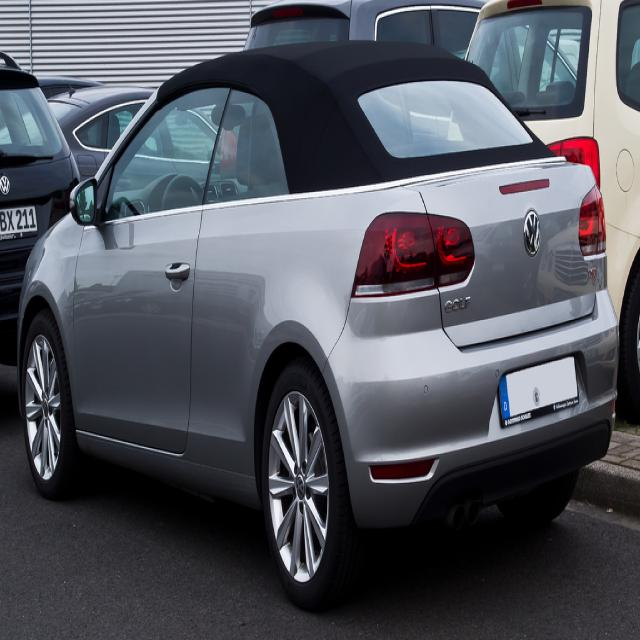car: (13, 13, 622, 605)
